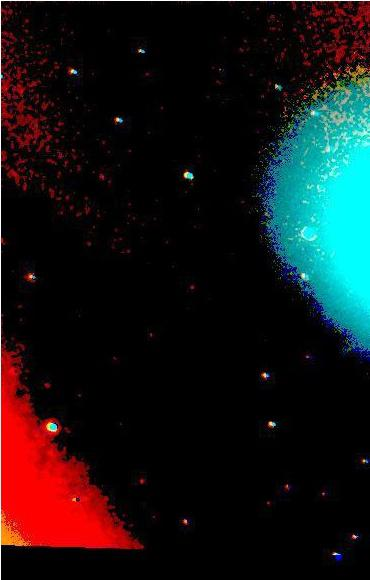star: (33, 439, 63, 469)
